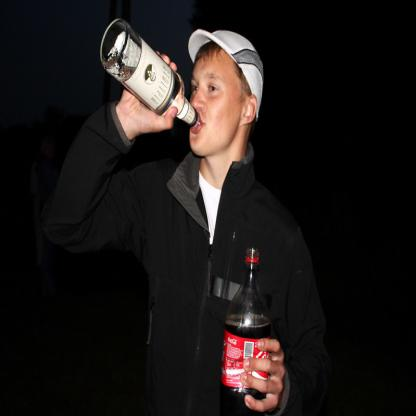drinking: (101, 18, 200, 129)
